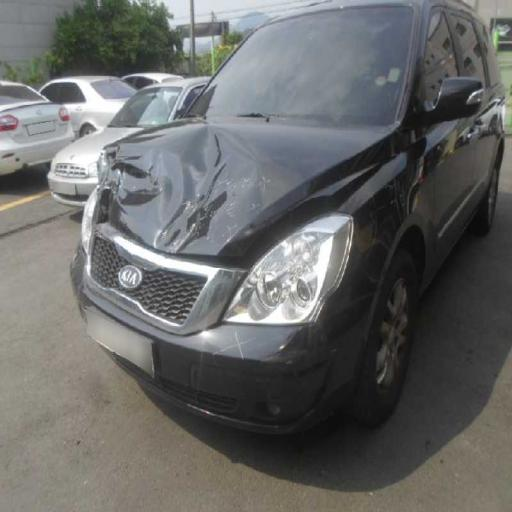dent: (128, 141, 316, 274)
scratch: (224, 319, 270, 367)
